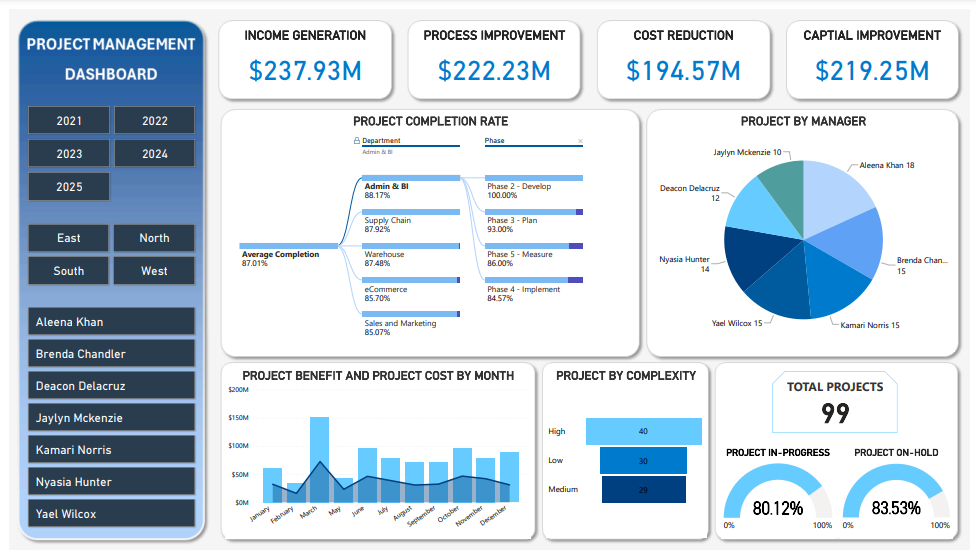

The dashboard page shown, as its layout file describes it:
{"tool":"powerbi","page":{"name":"Page 1","canvas":[1920,1080],"ordinal":0},"visuals":[{"type":"decompositionTreeVisual","title":"PROJECT COMPLETION RATE","fields":{"Analyze":["Project Management Dataset.Completion%"],"ExplainBy":["Project Management Dataset.Department","Project Management Dataset.Phase"]},"box":[431.2,210,822.5,485],"z":0},{"type":"card","title":"INCOME GENERATION","fields":{"Values":["Project Management Dataset. Project Benefit "]},"box":[431.7,36.7,320,133.3],"z":1000},{"type":"advancedSlicerVisual","fields":{"Values":["Project Management Dataset.Project Manager"]},"box":[30.9,587.3,349.1,456.4],"z":2000},{"type":"lineStackedColumnComboChart","title":"PROJECT BENEFIT AND PROJECT COST BY MONTH","fields":{"Category":["Project Management Dataset.End Date.Variation.Date Hierarchy.Month"],"Y":["Project Management Dataset. Project Benefit "],"Y2":["Project Management Dataset. Project Cost "]},"box":[432.5,717.5,610,340],"z":3000},{"type":"pieChart","title":"PROJECT BY MANAGER","fields":{"Category":["Project Management Dataset.Project Manager"],"Y":["Project Management Dataset.Project Manager"]},"box":[1285,210,605,475],"z":4000},{"type":"advancedSlicerVisual","fields":{"Values":["Project Management Dataset.Region"]},"box":[30,421.2,350,137.5],"z":5000},{"type":"funnel","title":"PROJECT BY COMPLEXITY","fields":{"Category":["Project Management Dataset.Complexity"],"Y":["Project Management Dataset.Project Name"]},"box":[1072.5,717.5,320,338.8],"z":6000},{"type":"advancedSlicerVisual","fields":{"Values":["Project Management Dataset.Year"]},"box":[30.9,185.5,349.1,207.3],"z":7000},{"type":"gauge","title":"PROJECT IN-PROGRESS","fields":{"Y":["Project Management Dataset.Completion%"]},"box":[1422.5,873.8,227.5,183.8],"z":8000},{"type":"gauge","title":"PROJECT ON-HOLD","fields":{"Y":["Project Management Dataset.Completion%"]},"box":[1661.2,873.8,223.8,183.8],"z":9000},{"type":"cardVisual","title":"TOTAL PROJECTS","fields":{"Data":["Project Management Dataset.Project Name"]},"box":[1520,717.5,260,133.8],"z":10000},{"type":"card","title":"PROCESS IMPROVEMENT","fields":{"Values":["Project Management Dataset. Project Benefit "]},"box":[810,36.7,320,133.3],"z":11000},{"type":"card","title":"COST REDUCTION","fields":{"Values":["Project Management Dataset. Project Benefit "]},"box":[1188.3,36.7,320,133.3],"z":12000},{"type":"card","title":"CAPTIAL IMPROVEMENT","fields":{"Values":["Project Management Dataset. Project Benefit "]},"box":[1565,36.7,320,133.3],"z":13000}]}

Visuals, with their boxes on the page's 1920x1080 design canvas (x1, y1, x2, y2). These are canvas units, not pixel positions in the 976x559 screenshot, which may show the page scaled, cropped or inside an application window:
"PROJECT COMPLETION RATE" decompositionTreeVisual: 431/210/1254/695
"INCOME GENERATION" card: 432/37/752/170
advancedSlicerVisual - Project Management Dataset.Project Manager: 31/587/380/1044
"PROJECT BENEFIT AND PROJECT COST BY MONTH" lineStackedColumnComboChart: 432/718/1042/1058
"PROJECT BY MANAGER" pieChart: 1285/210/1890/685
advancedSlicerVisual - Project Management Dataset.Region: 30/421/380/559
"PROJECT BY COMPLEXITY" funnel: 1072/718/1392/1056
advancedSlicerVisual - Project Management Dataset.Year: 31/186/380/393
"PROJECT IN-PROGRESS" gauge: 1422/874/1650/1058
"PROJECT ON-HOLD" gauge: 1661/874/1885/1058
"TOTAL PROJECTS" cardVisual: 1520/718/1780/851
"PROCESS IMPROVEMENT" card: 810/37/1130/170
"COST REDUCTION" card: 1188/37/1508/170
"CAPTIAL IMPROVEMENT" card: 1565/37/1885/170
